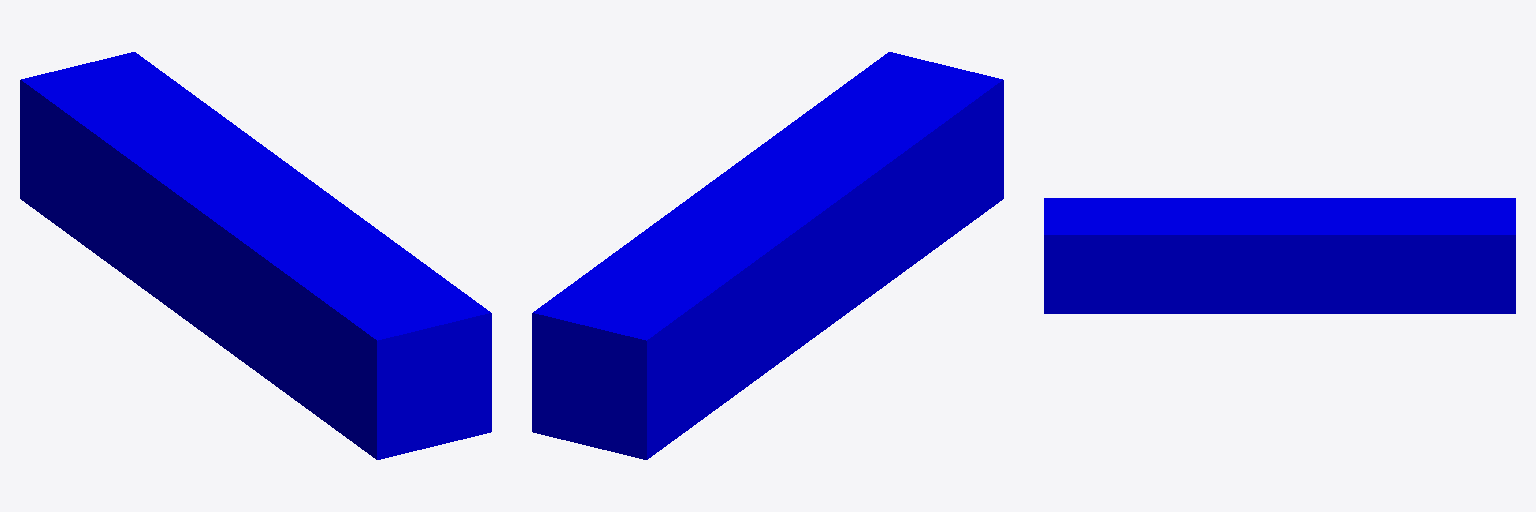
robot.urdf — board3_block1:
<?xml version="1.0"?>
<robot name="board3_block1">
    <link name="board3_block1">
        <visual>
            <origin xyz="0 0 0 " rpy=" 0 0 0"/>
            <geometry>
                <mesh filename="./MOMO_Board3_Block1.stl" scale="0.001 0.001 0.001"/>
            </geometry>
            <material name="red">
                <color rgba="0.0 0.0 1.0 1.0"/>
            </material>
        </visual>
        <collision>
            <origin xyz="0 0 0" rpy="0 0 0"/>
            <geometry>
                <mesh filename="./MOMO_Board3_Block1.stl" scale="0.001 0.001 0.001"/>
            </geometry>
        </collision>
    </link>
</robot>

--- Render facts (derived) ---
The picture shows the robot from 3 angles, left to right: view 1: azimuth 30°, elevation 25°; view 2: azimuth 150°, elevation 25°; view 3: azimuth 270°, elevation 25°; orthographic projection.
Robot: board3_block1 — 1 links, 0 joints (none); root link board3_block1; default pose: every joint at zero.
Visible links, largest first — view 1: board3_block1; view 2: board3_block1; view 3: board3_block1.
Link boxes in pixels (x1,y1,x2,y2): board3_block1: (20, 52, 491, 459); board3_block1: (532, 52, 1003, 459); board3_block1: (1044, 198, 1515, 313).
Size in the robot's own frame: 0.037 by 0.2 by 0.037 metres.
1 mesh visuals loaded from 1 distinct referenced files (1 ASCII STL).